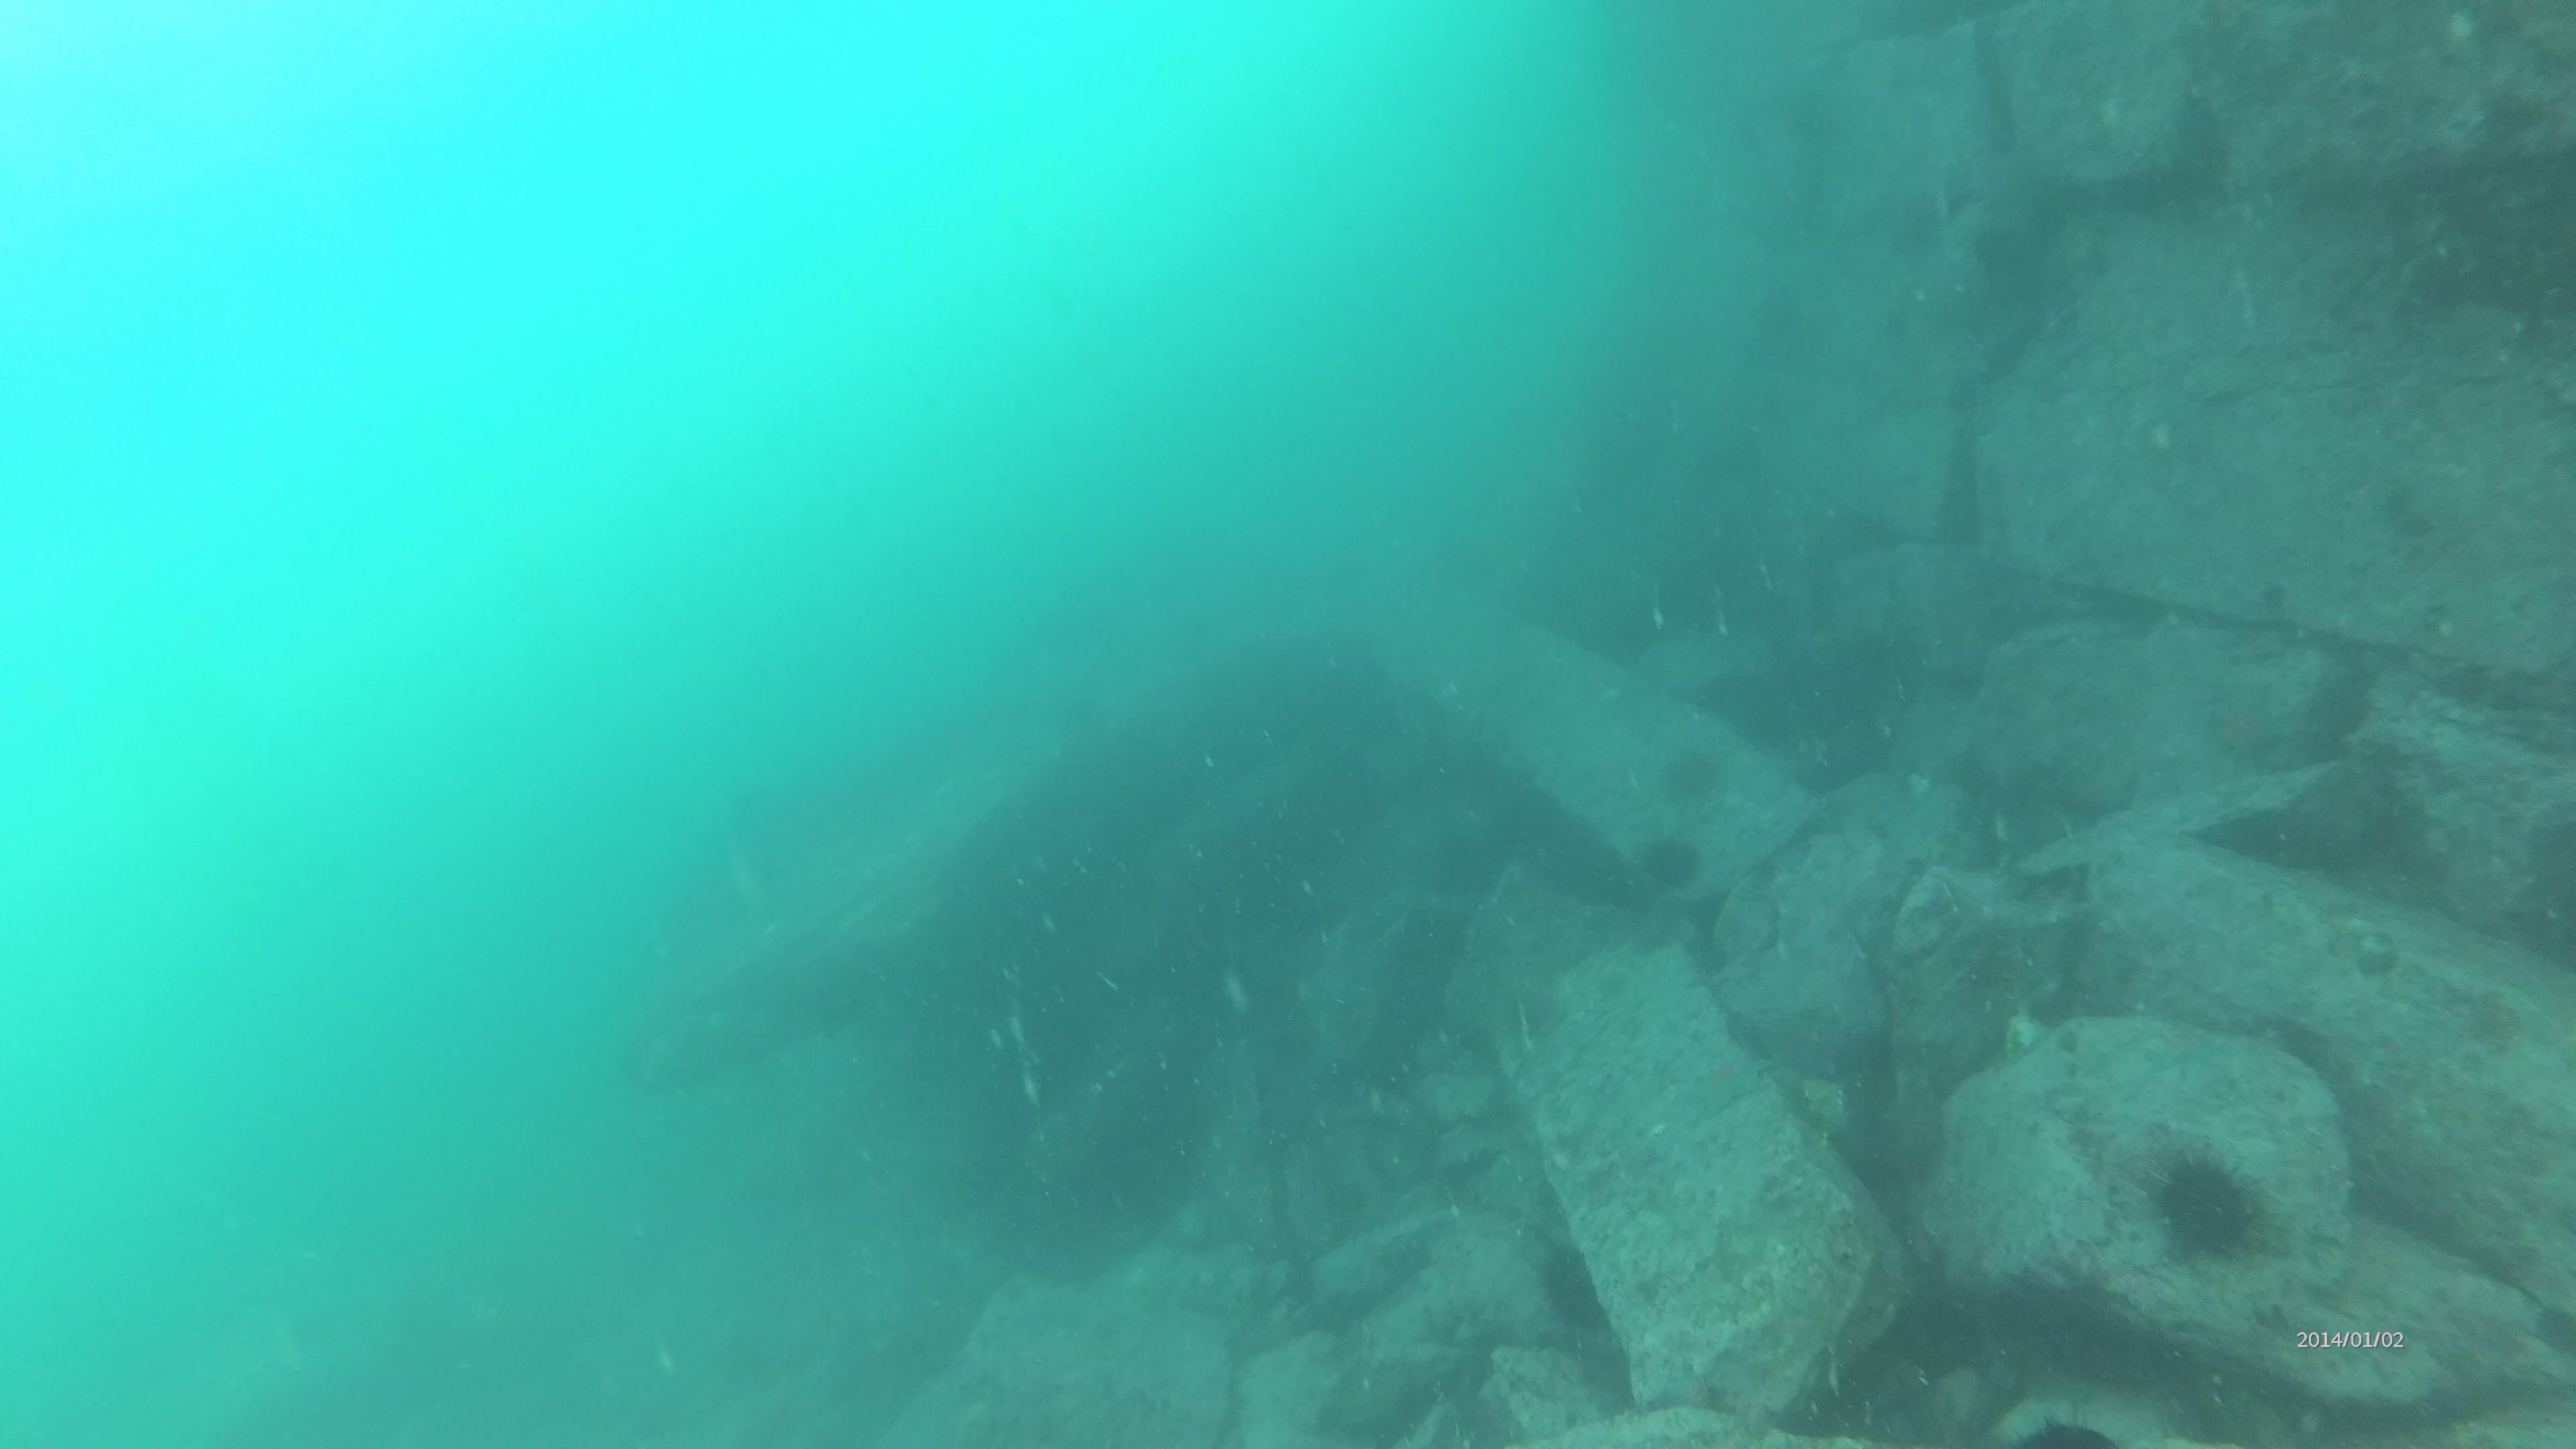echinus: (2141, 1150, 2272, 1261), (1644, 840, 1707, 897)
